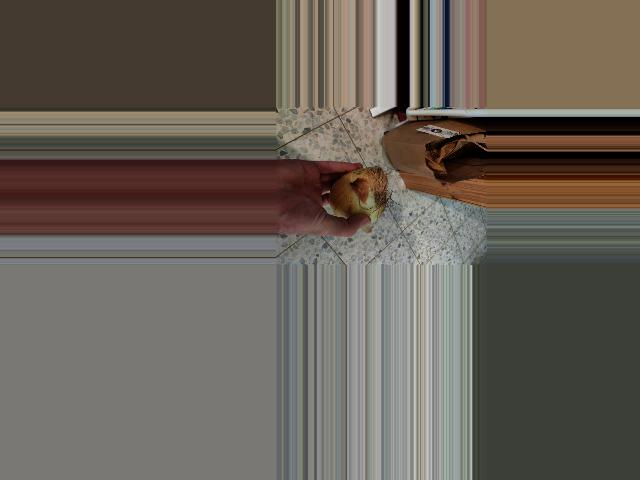onion: (325, 165, 390, 233)
